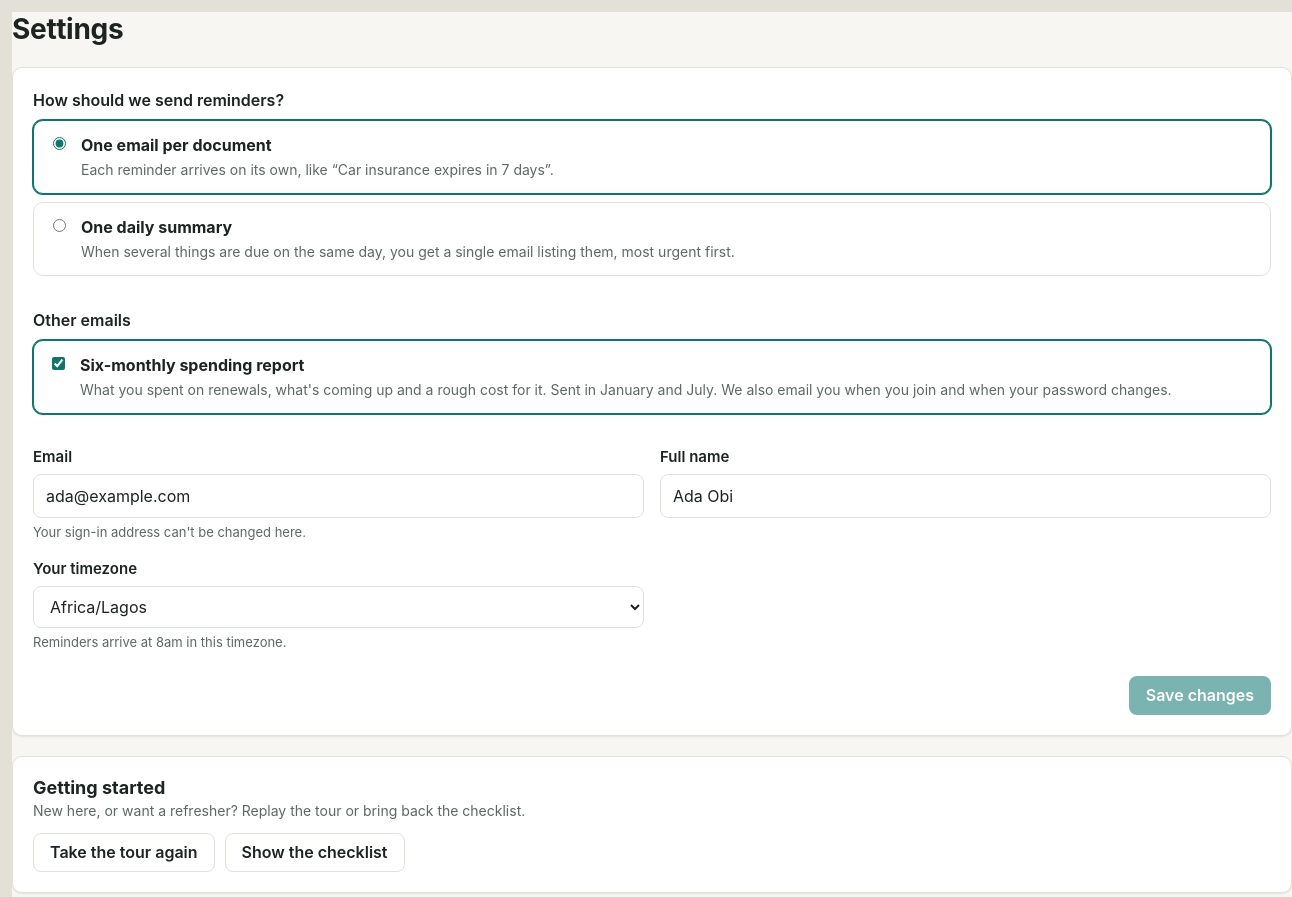
SettingsPage › can change the name and timezone together
Expected: the heading "Settings" is shown, x1=12 y1=12 x2=123 y2=47
Replace the text in the field labelled "Full name" with "  Ada O.  " at (966, 496), box x1=660 y1=474 x2=1271 y2=518
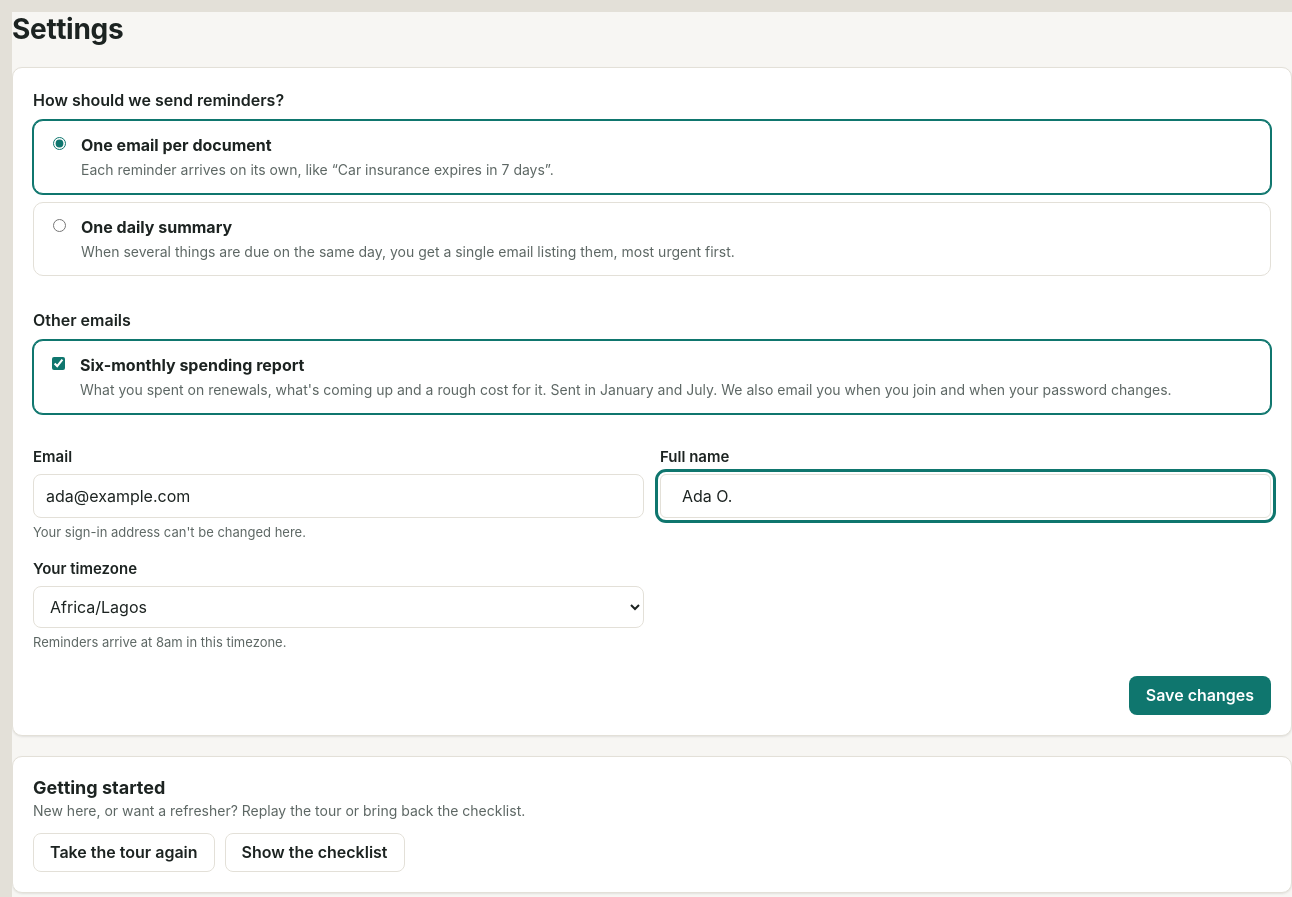
Select "Europe/London" in the dropdown labelled "Your timezone" at (338, 606), box x1=33 y1=586 x2=644 y2=628
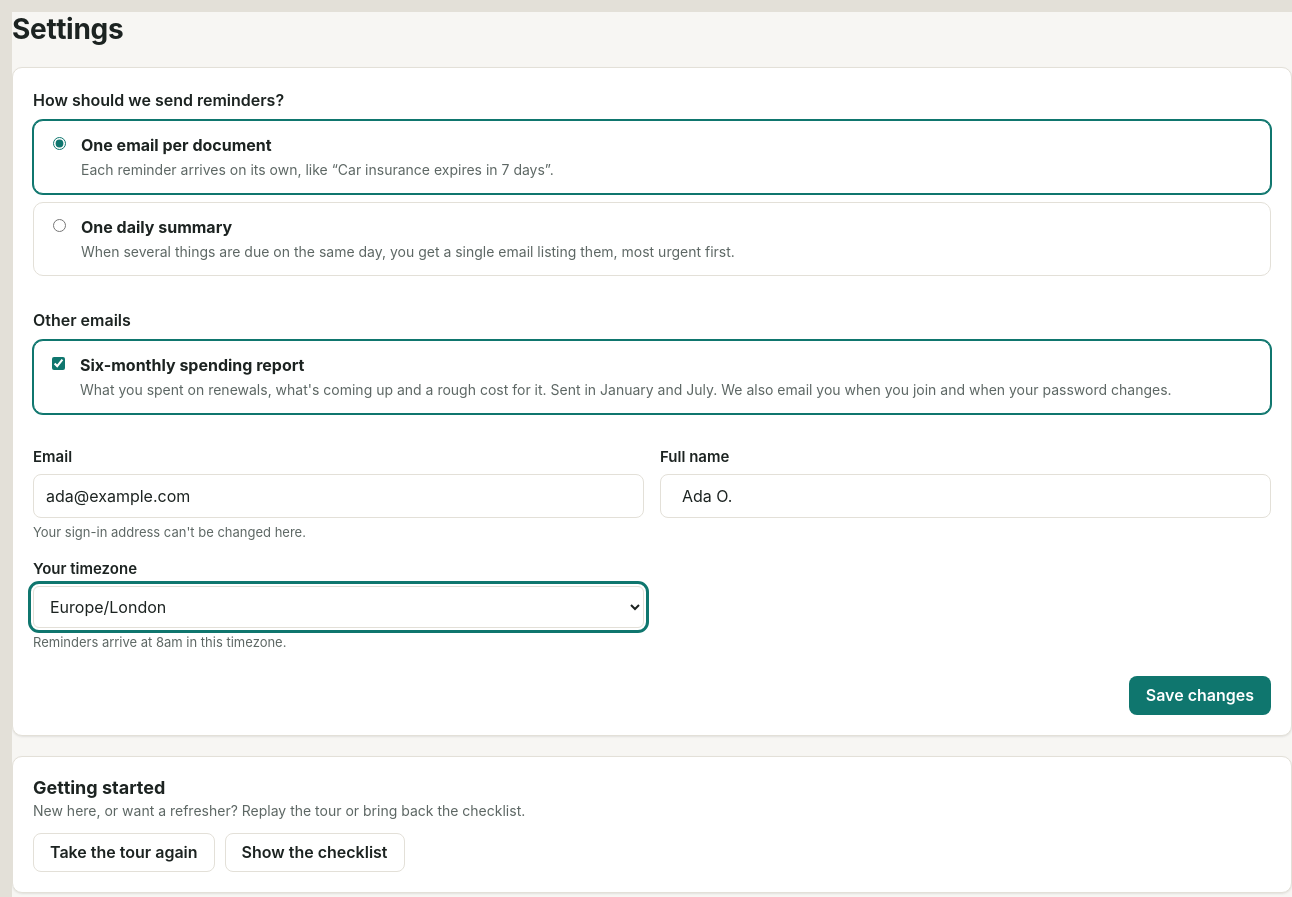
Click the button "Save changes" at (1200, 696), box x1=1129 y1=676 x2=1271 y2=715
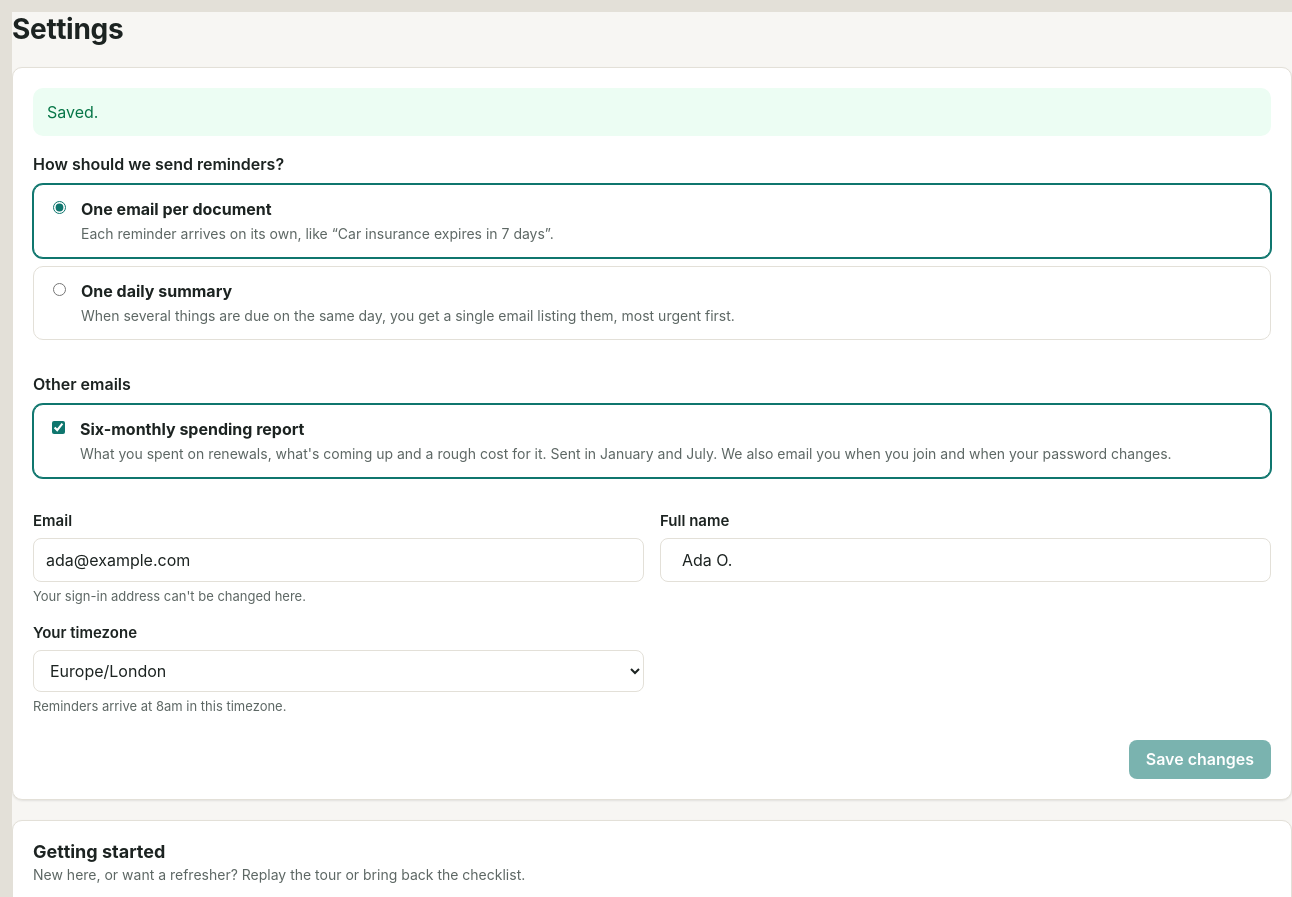
Now the text "Saved." is shown, box x1=33 y1=88 x2=1271 y2=136
